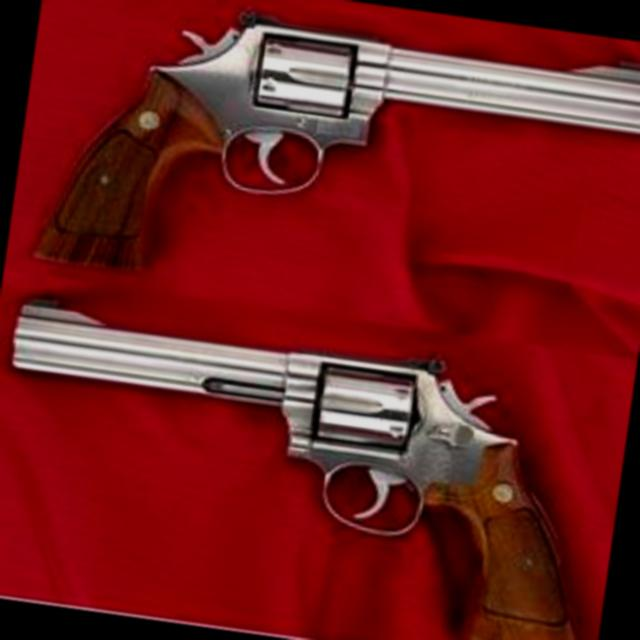revolver: (0, 262, 638, 640)
